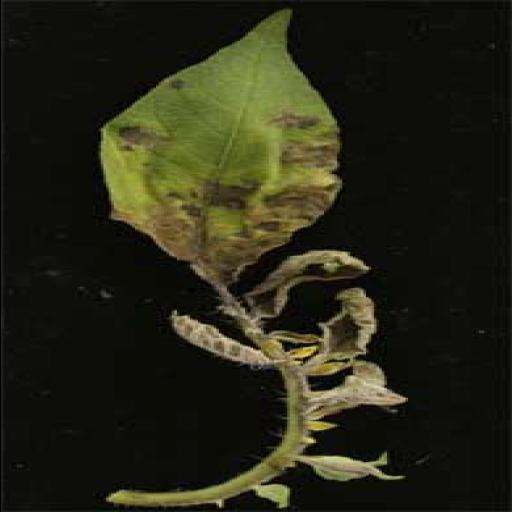disease_tomato: (84, 2, 350, 286)
